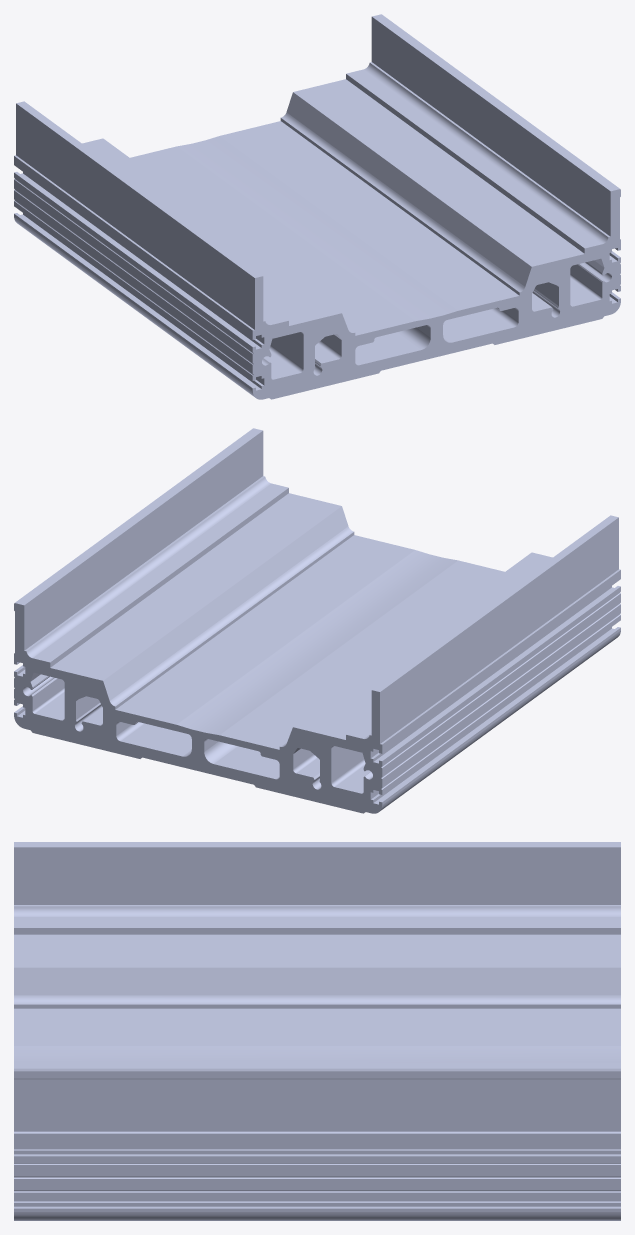
3 views of the same model, one above another, from view 1: azimuth 30°, elevation 25°; view 2: azimuth 150°, elevation 25°; view 3: azimuth 270°, elevation 25° (orthographic). The views are drawn at different scales.
Parts seen in each view (by area): view 1: empty_2; view 2: empty_2; view 3: empty_2.
Part boxes in pixels (x1,y1,x2,y2): empty_2: (14, 14, 620, 399); empty_2: (14, 428, 620, 813); empty_2: (14, 842, 620, 1220).
Size of the model in its own units: 178 by 57.99 by 200.
